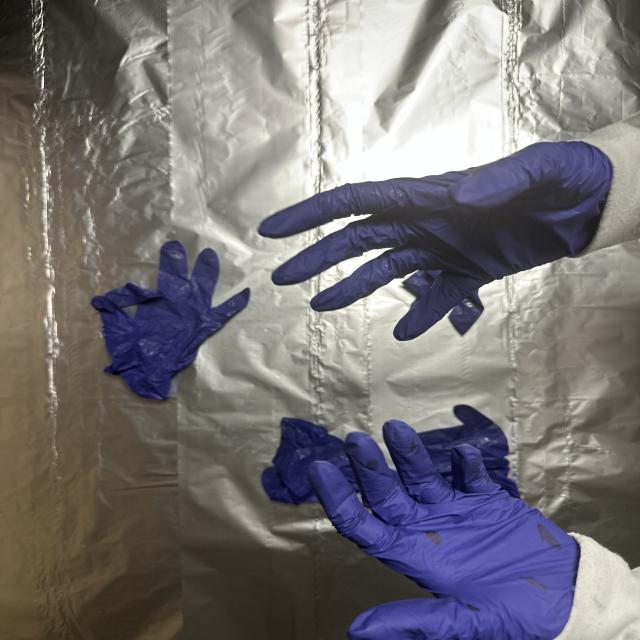gloves_contaminated: (259, 142, 613, 340), (309, 420, 580, 640)
